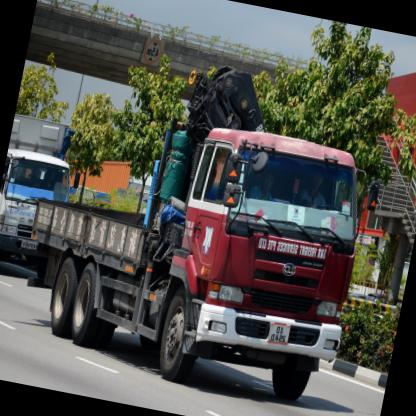truck: (146, 117, 379, 409)
